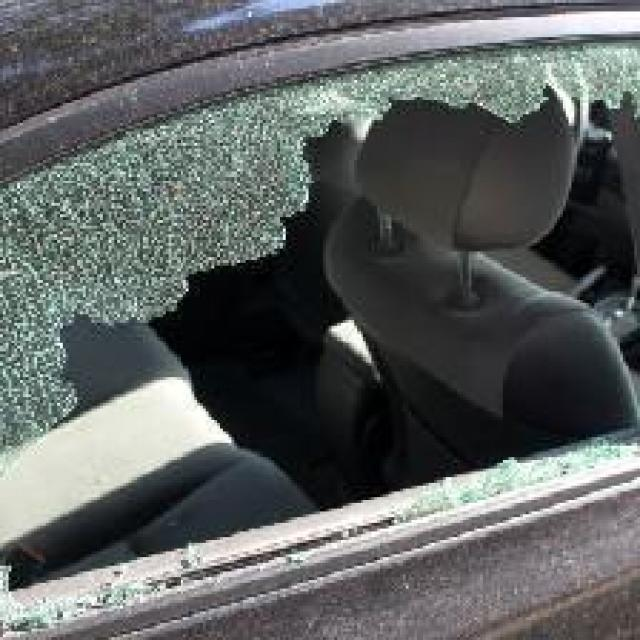damaged: (5, 46, 638, 628)
